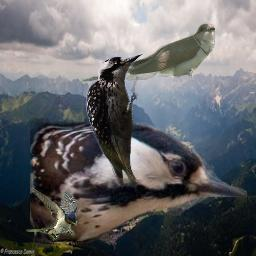Cuckoo: (79, 22, 215, 84)
Swallow: (26, 187, 77, 241)
Woodpecker: (30, 112, 247, 248), (81, 47, 147, 193)
